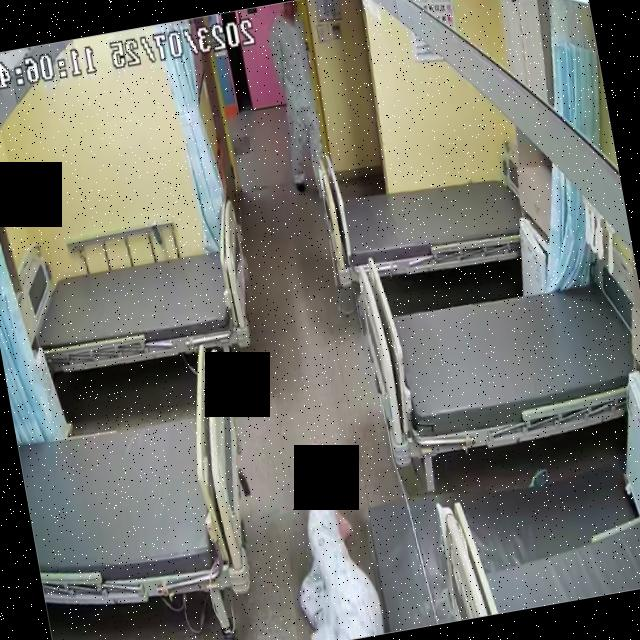bed: (6, 342, 264, 620), (361, 264, 640, 460), (10, 225, 261, 384), (324, 158, 526, 286)
fall: (272, 441, 381, 640)
patient: (269, 441, 381, 640), (261, 0, 337, 195)
